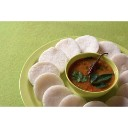idly: (35, 73, 64, 99), (40, 47, 66, 71), (57, 37, 80, 57), (76, 36, 100, 52), (59, 95, 84, 107), (114, 54, 128, 72)
